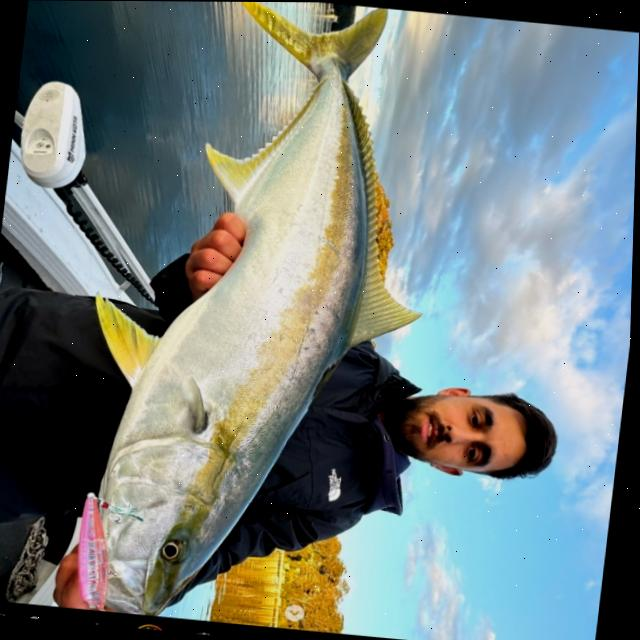Kingfish: (74, 1, 462, 638)
